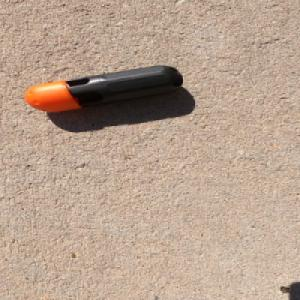PlasticPart: (23, 64, 184, 113)
